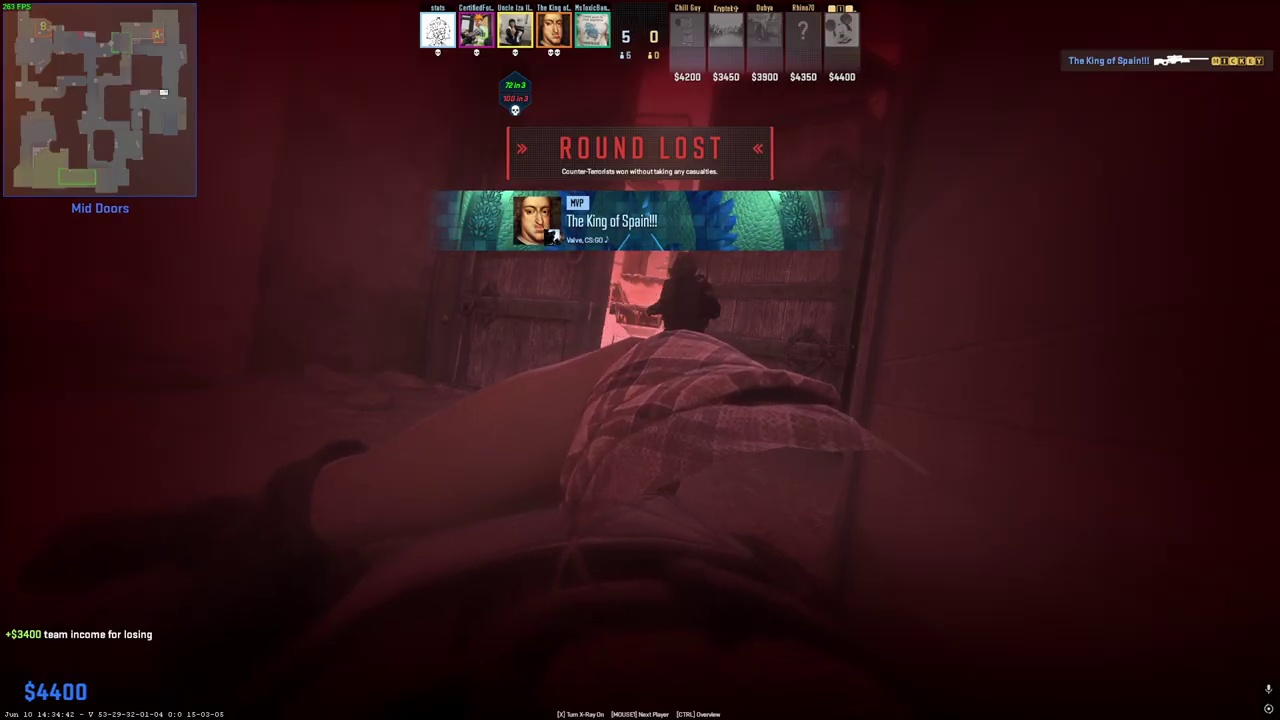CT: (657, 251, 714, 333)
